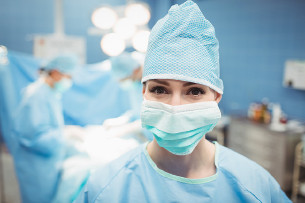face_mask: (140, 78, 219, 155)
